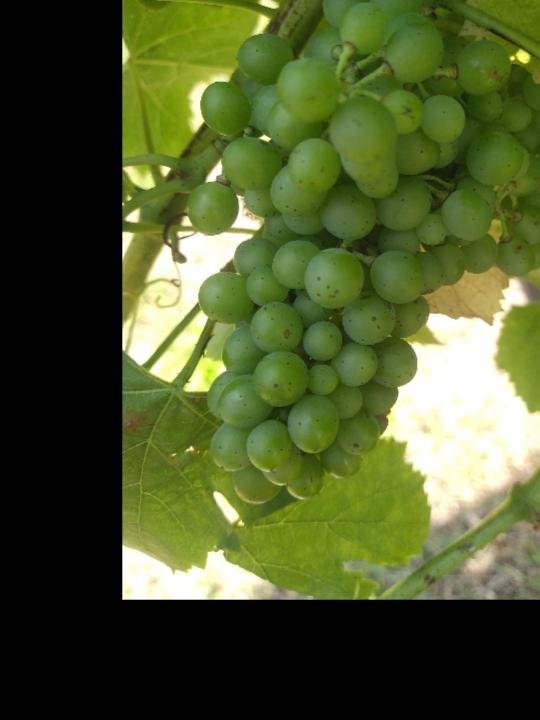grape: (181, 0, 540, 510)
